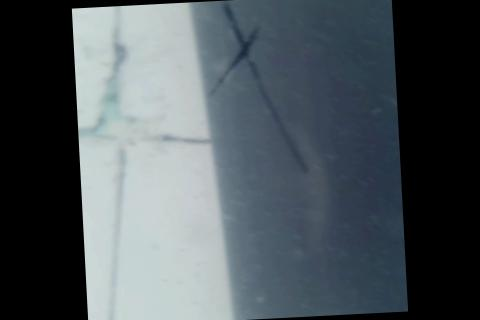keretakan: (200, 0, 315, 179)
